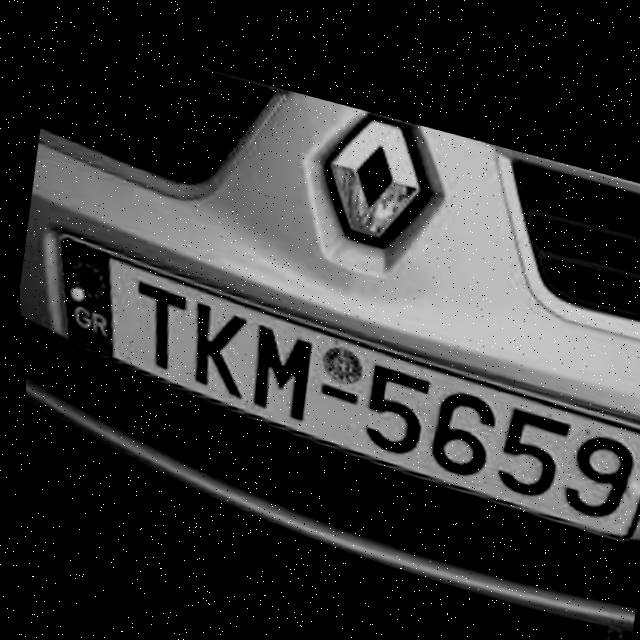license-plates: (67, 239, 640, 539)
